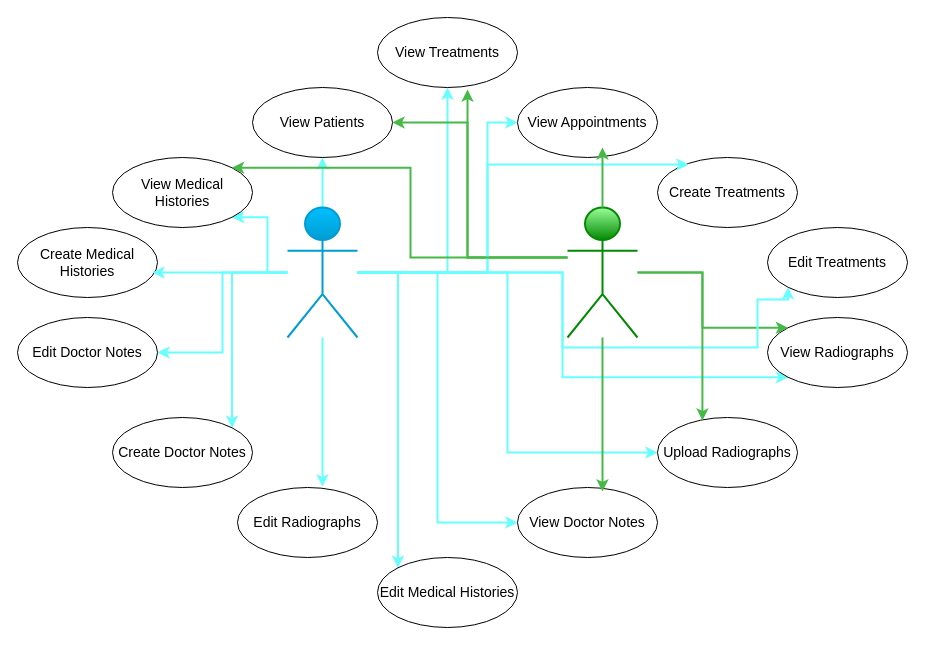
The diagram is 925 pixels wide and 645 high, and some of its shapes have lost their labels. The centre of each missing label's shape, as x and y in pixels:
"Dentist" belongs at point 322,272.
"Nurse" belongs at point 602,272.
